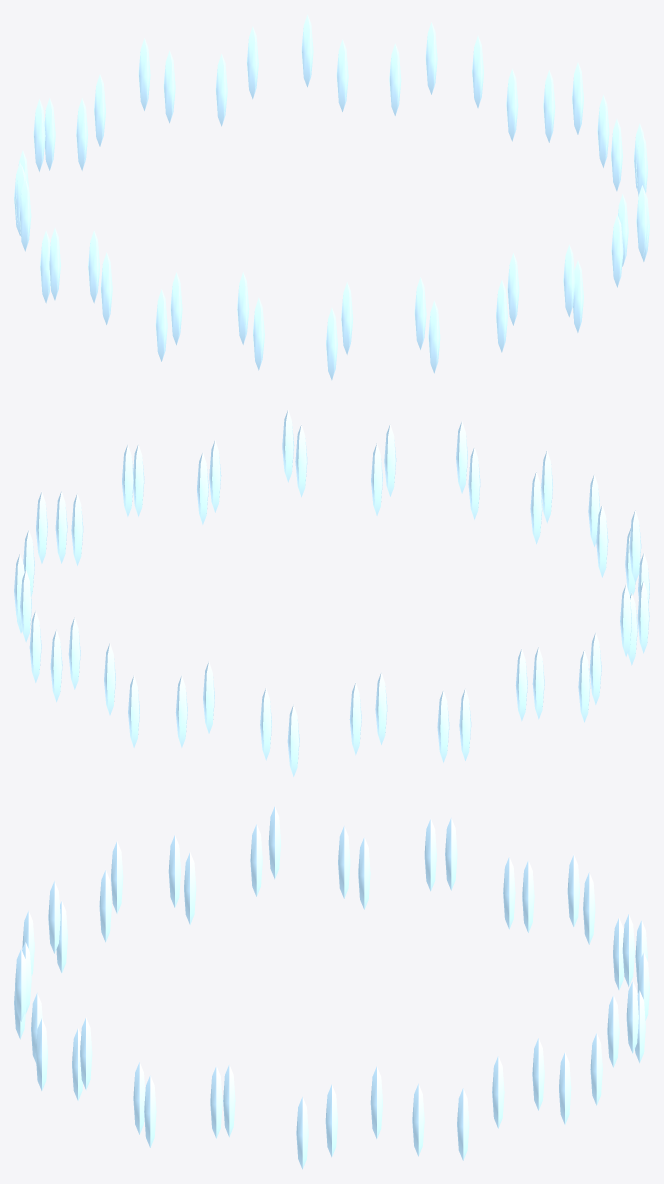
The model's file is citadel_fx_drops.glb.
The picture shows the model from 3 angles, top to bottom: view 1: azimuth 30°, elevation 25°; view 2: azimuth 150°, elevation 25°; view 3: azimuth 270°, elevation 25°; orthographic projection.
Visible parts, largest first — view 1: fx_drops_water; view 2: fx_drops_water; view 3: fx_drops_water.
Boxes of the visible parts, x1,y1,x2,y2 form: fx_drops_water: [14, 14, 649, 380]; fx_drops_water: [14, 410, 649, 776]; fx_drops_water: [14, 806, 649, 1169].
Bounding box in the file's own units: 2.04 × 0.3799 × 2.04.
